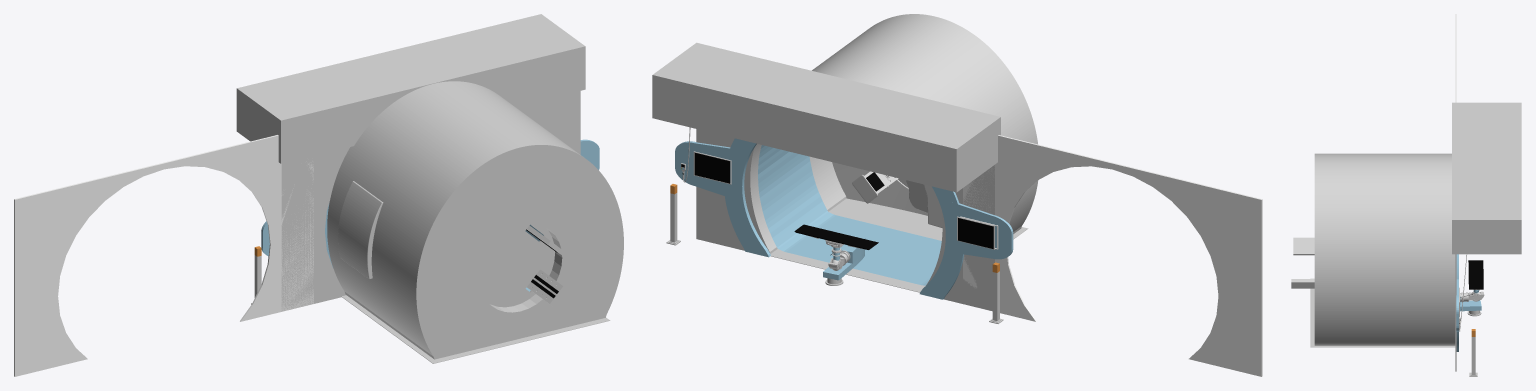
File: proton.glb
3 views of the same model, side by side, from view 1: azimuth 30°, elevation 25°; view 2: azimuth 150°, elevation 25°; view 3: azimuth 270°, elevation 25° (orthographic). The views are drawn at different scales.
Visible parts, largest first — view 1: camera interna, soppalco, corniceCubica.001, corniceCubica, Cylinder, nozzle, basePavimento, Cubo; view 2: soppalco, camera interna, corniceCubica.001, interno, corniceCubica, cornice, basePavimento, Cube.004, Cube, Cube.040, Cube.018, coach (+1 smaller); view 3: camera interna, soppalco, basePavimento, coach, Cubo.023, Cubo, corniceCubica, braccio2.
Boxes of the visible parts, <box> form: camera interna: <box>327,81,623,359</box>; soppalco: <box>236,14,585,163</box>; corniceCubica.001: <box>14,135,313,376</box>; corniceCubica: <box>281,91,580,311</box>; Cylinder: <box>479,223,554,307</box>; nozzle: <box>338,181,383,279</box>; basePavimento: <box>341,295,610,363</box>; Cubo: <box>527,270,565,305</box>; soppalco: <box>652,42,1000,192</box>; camera interna: <box>744,14,1038,285</box>; corniceCubica.001: <box>963,135,1262,376</box>; interno: <box>758,145,941,285</box>; corniceCubica: <box>696,129,994,311</box>; cornice: <box>724,138,964,299</box>; basePavimento: <box>770,198,1028,292</box>; Cube.004: <box>947,201,1013,259</box>; Cube: <box>675,141,730,195</box>; Cube.040: <box>958,218,993,248</box>; Cube.018: <box>694,153,729,183</box>; coach: <box>794,224,878,249</box>; camera interna: <box>1314,153,1455,345</box>; soppalco: <box>1452,102,1521,254</box>; basePavimento: <box>1310,278,1455,347</box>; coach: <box>1468,260,1483,289</box>; Cubo.023: <box>1293,237,1314,255</box>; Cubo: <box>1291,279,1314,288</box>; corniceCubica: <box>1455,254,1456,371</box>; braccio2: <box>1460,300,1481,311</box>.
Size of the model in its own units: 18.15 by 5.73 by 7.83.
